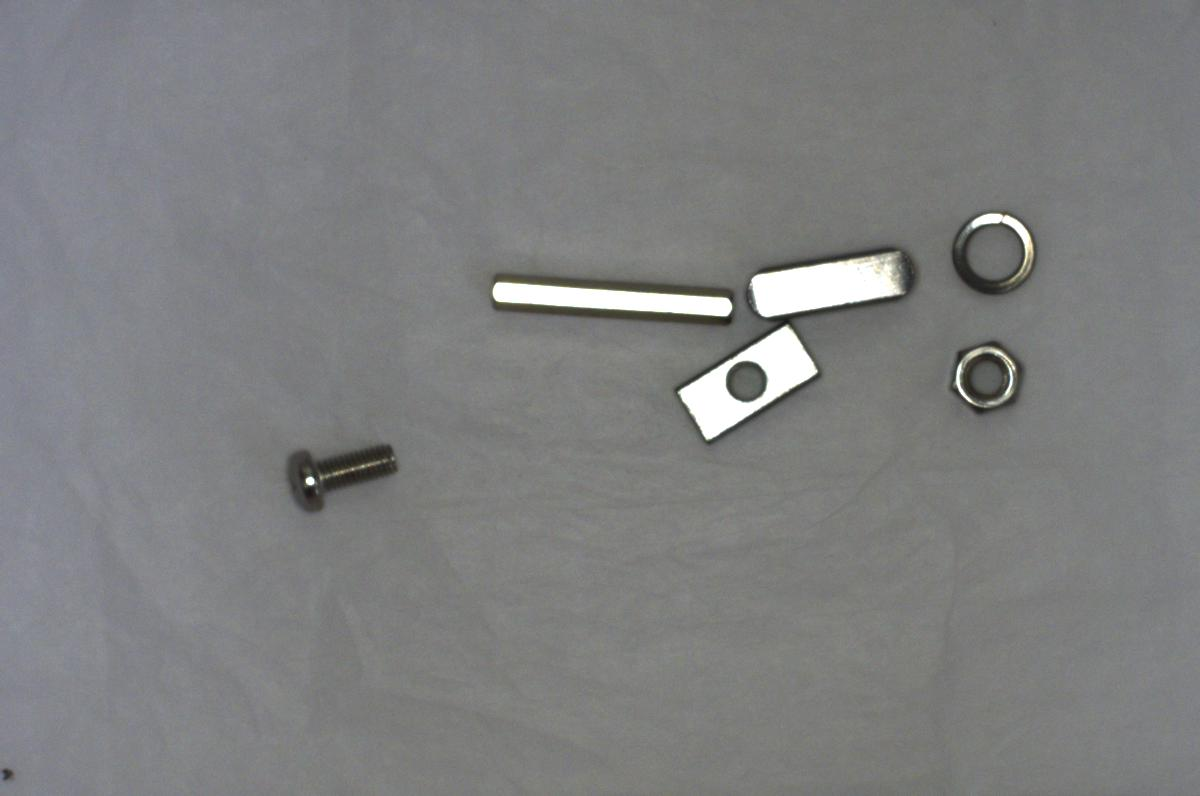Double hexagonal column: (482, 265, 746, 327)
Hexagon nut: (939, 331, 1032, 419)
Keybar: (742, 242, 925, 322)
Rectangular nut: (669, 324, 824, 442)
Round head screw: (278, 428, 416, 521)
Spring washer: (948, 186, 1047, 299)
